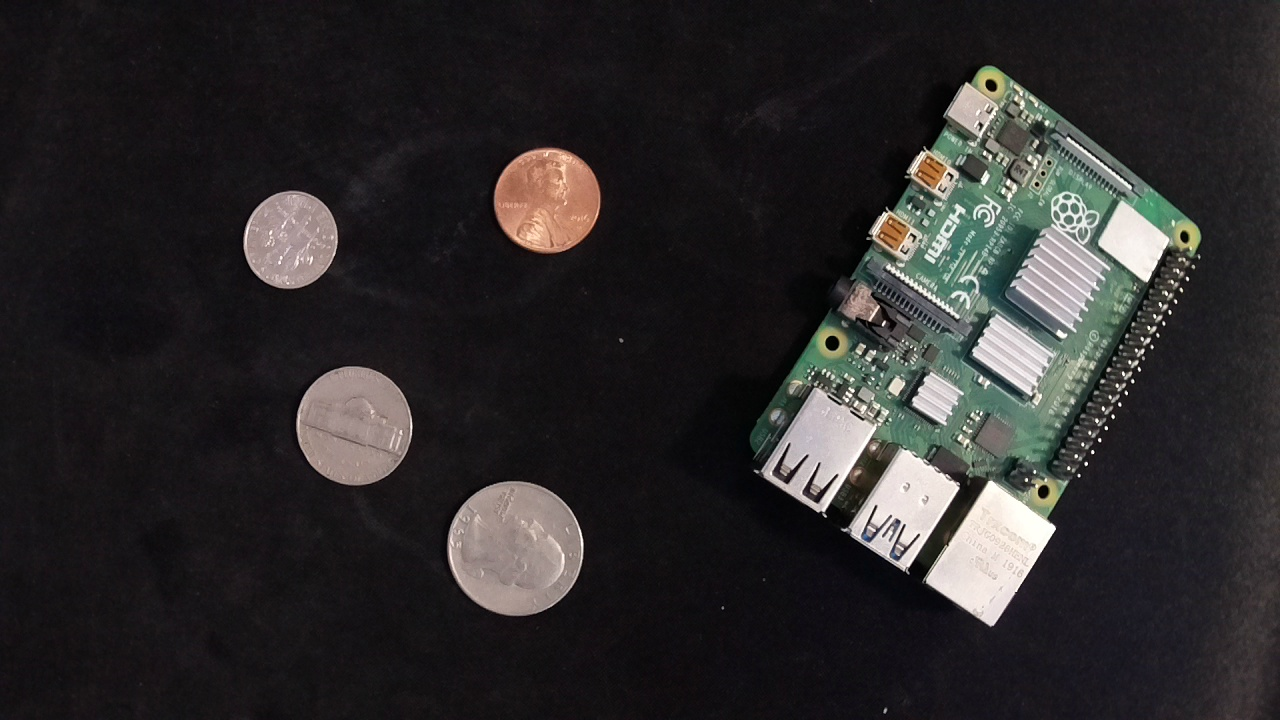dime: (239, 186, 341, 294)
nickel: (288, 362, 420, 490)
penny: (490, 142, 604, 258)
quarter: (443, 474, 587, 622)
